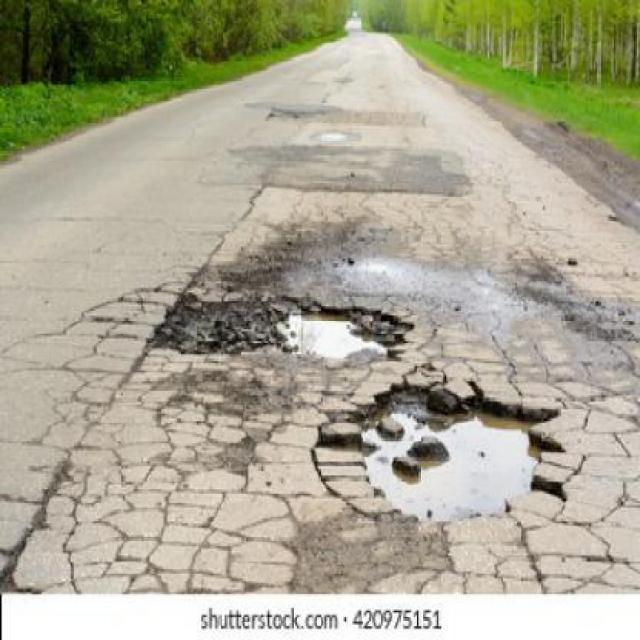Buraco: (312, 375, 572, 528), (140, 289, 418, 373)
